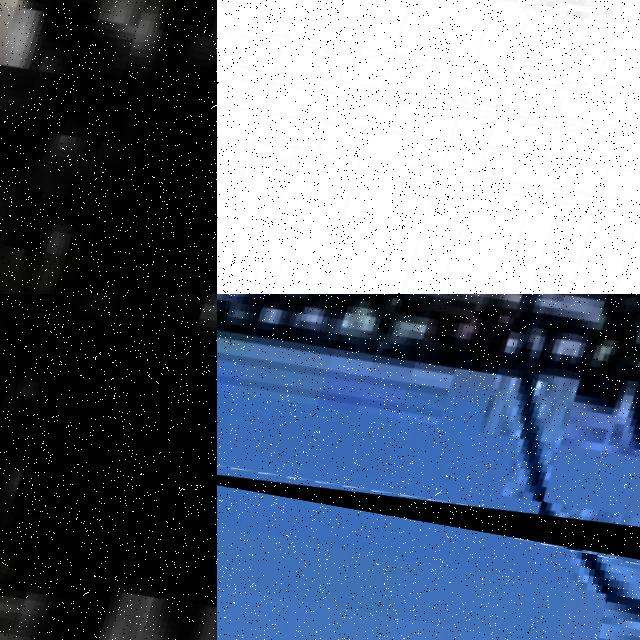0: (217, 294, 640, 568), (0, 294, 217, 640), (0, 0, 217, 294)
drone: (217, 0, 640, 294)
